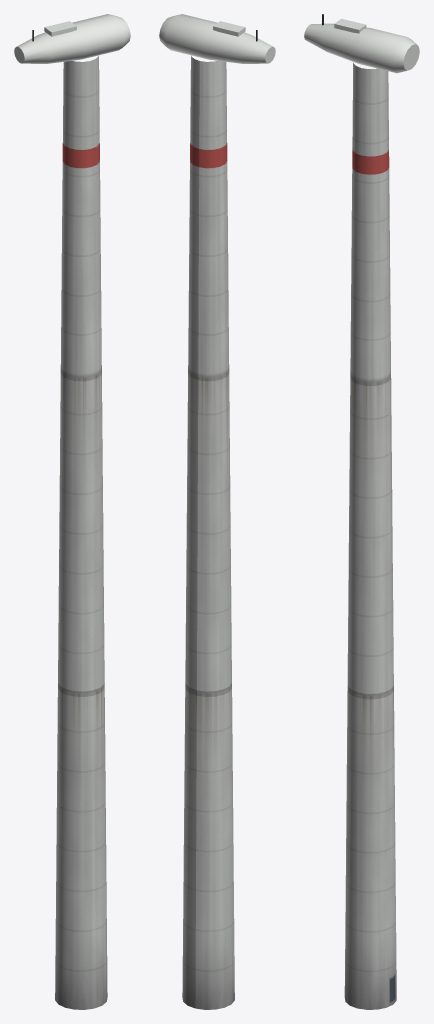
The model's file is wind_tower.glb.
3 renders of one model, left to right at view 1: azimuth 30°, elevation 25°; view 2: azimuth 150°, elevation 25°; view 3: azimuth 330°, elevation 25°, orthographic.
Visible parts, largest first — view 1: Tower, Nacelle; view 2: Tower, Nacelle; view 3: Tower, Nacelle.
Part boxes in pixels (box(x1,y1,x2,y2)): Tower: box(55, 55, 107, 1009); Nacelle: box(14, 14, 130, 63); Tower: box(182, 55, 234, 1009); Nacelle: box(159, 14, 275, 63); Tower: box(344, 63, 396, 1009); Nacelle: box(304, 14, 419, 73).
Size of the model in its own units: 9 by 81.8 by 4.
3 materials, 1 textured.
